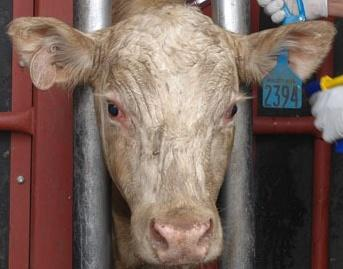muzzles: (128, 202, 229, 269)
